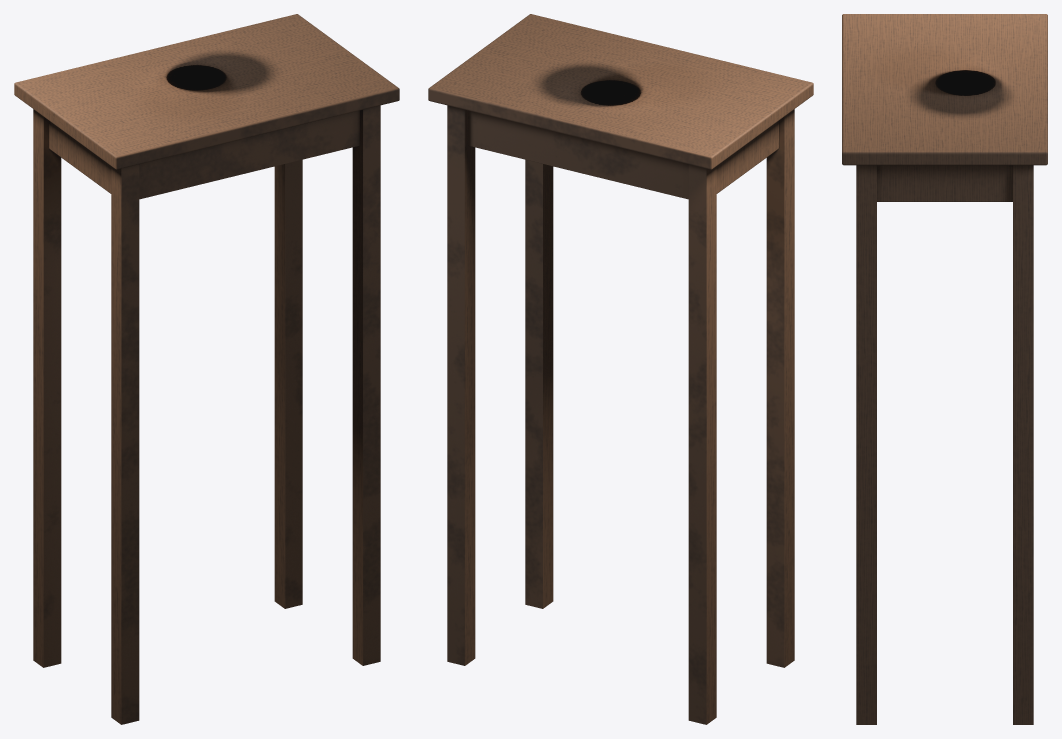
3 renders of one model, left to right at view 1: azimuth 30°, elevation 25°; view 2: azimuth 150°, elevation 25°; view 3: azimuth 270°, elevation 25°, orthographic.
Parts seen in each view (by area): view 1: Table; view 2: Table; view 3: Table.
Part boxes in pixels (<box>): Table: <box>14,14,399,724</box>; Table: <box>428,14,813,724</box>; Table: <box>842,14,1047,724</box>.
Size of what is drawn, in the model's own units: 1.6 by 3.1 by 1.
1 material, 1 textured.
